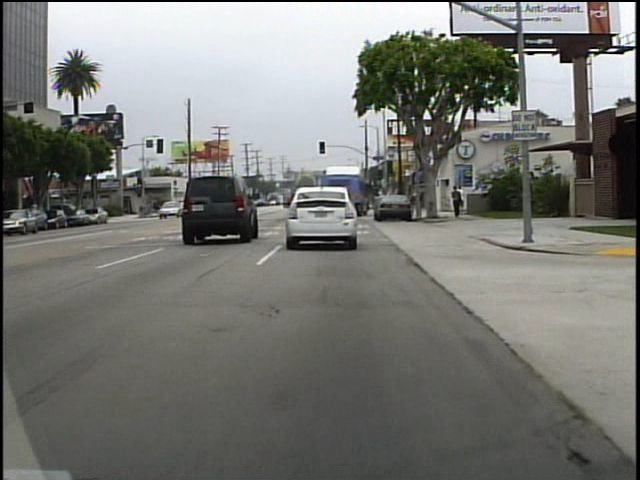person: (449, 185, 463, 222), (457, 184, 467, 218)
